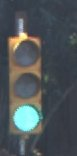Green: (4, 34, 45, 138)
